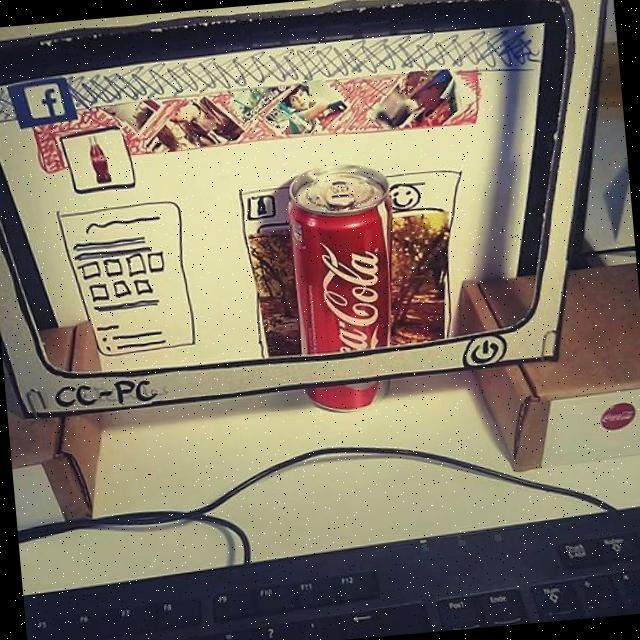coca-cola: (280, 158, 411, 415)
